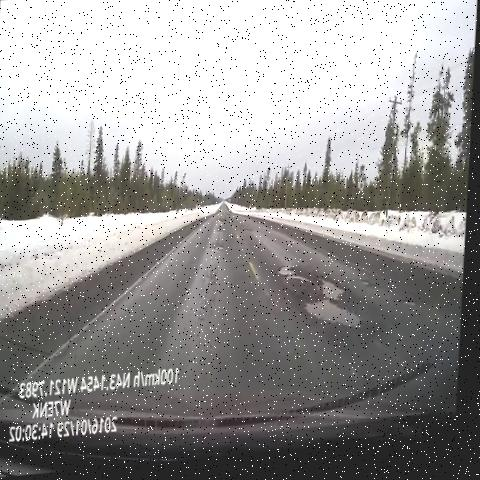pothole: (301, 303, 371, 346), (316, 274, 352, 313), (278, 268, 315, 302), (398, 297, 420, 322), (361, 283, 383, 306), (213, 245, 233, 261), (241, 229, 255, 245)
